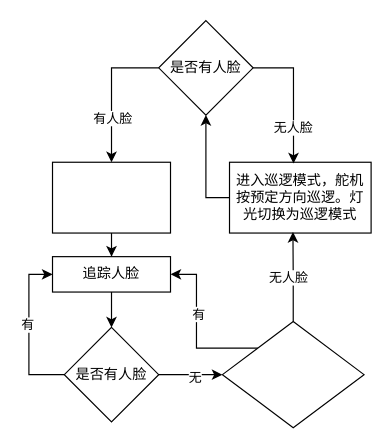
The diagram is 392 pixels wide and 448 high, and some of its shapes have lost their labels. The centre of each missing label's shape, as x and y in pixels:
"等待3s是否有人脸" belongs at pixel 292 374.
"进入报警模式，拍照，蜂鸣，灯光报警模式" belongs at pixel 111 197.
